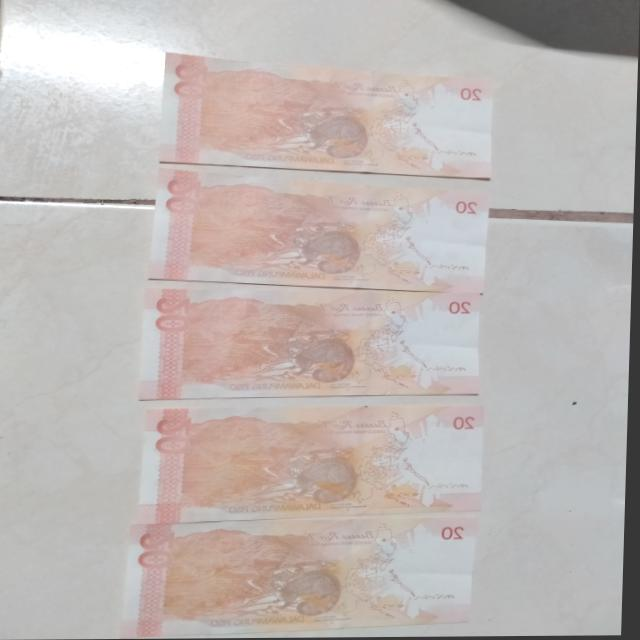20_civet: (280, 448, 363, 512)
20_civet_watermark: (384, 476, 434, 512), (375, 355, 426, 384)
